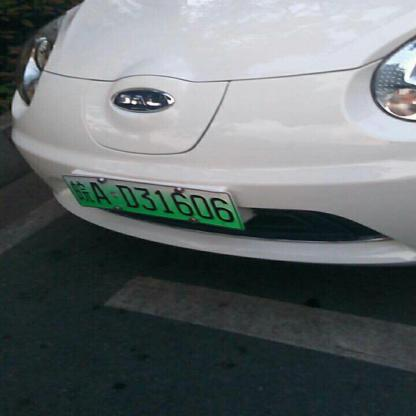lp: (61, 174, 243, 229)
